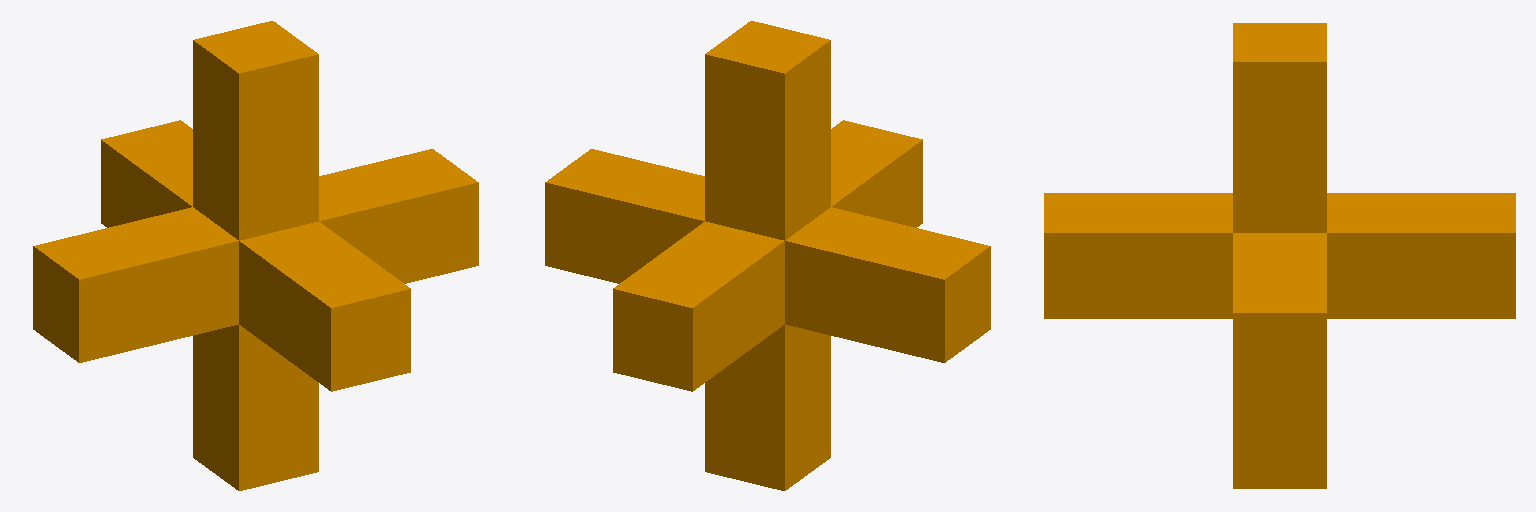
robot.urdf — tool_target:
<robot name="tool_target">
  <link name="axisX">
  <visual>
    <origin xyz="0 0 0" rpy="0 0 0" />
    <geometry>
      <box size="0.05 0.01 0.01" />
    </geometry>
    <material name="orange">
      <color rgba="0.9 0.6 0 1.0"/>
    </material>
  </visual>
  </link>
  <link name="axisY">
  <visual>
    <origin xyz="0 0 0" rpy="0 0 0" />
    <geometry>
      <box size="0.01 0.05 0.01" />
    </geometry>
    <material name="orange">
      <color rgba="0.9 0.6 0 1.0"/>
    </material>
  </visual>
  </link>
  <link name="axisZ">
  <visual>
    <origin xyz="0 0 0" rpy="0 0 0" />
    <geometry>
      <box size="0.01 0.01 0.05" />
    </geometry>
    <material name="orange">
      <color rgba="0.9 0.6 0 1.0"/>
    </material>
  </visual>
  </link>
  <joint name="fixed0" type="fixed">
    <origin xyz="0 0 0" rpy="0 0 0"/>
    <parent link="axisX" />
    <child link="axisY" />
  </joint>
  <joint name="fixed1" type="fixed">
    <origin xyz="0 0 0" rpy="0 0 0"/>
    <parent link="axisX" />
    <child link="axisZ" />
  </joint>
</robot>

--- Render facts (derived) ---
Views: 3 orthographic renders of the robot side by side, from view 1: azimuth 30°, elevation 25°; view 2: azimuth 150°, elevation 25°; view 3: azimuth 270°, elevation 25°.
Model tool_target with 3 links and 2 joints (2 fixed), rooted at axisX, posed all joints at 0.
Visible links, largest first — view 1: axisZ, axisX, axisY; view 2: axisZ, axisX, axisY; view 3: axisY, axisZ, axisX.
Boxes of the visible links, <box> form: axisZ: <box>193,21,318,490</box>; axisX: <box>33,149,478,362</box>; axisY: <box>101,120,410,391</box>; axisZ: <box>705,21,830,490</box>; axisX: <box>545,149,990,362</box>; axisY: <box>613,120,922,391</box>; axisY: <box>1044,193,1515,318</box>; axisZ: <box>1233,23,1326,488</box>; axisX: <box>1233,233,1326,397</box>.
Bounding box of the posed robot: 0.05 × 0.05 × 0.05 m (x, y, z).
Geometry: primitives only (box / cylinder / sphere), no mesh files.